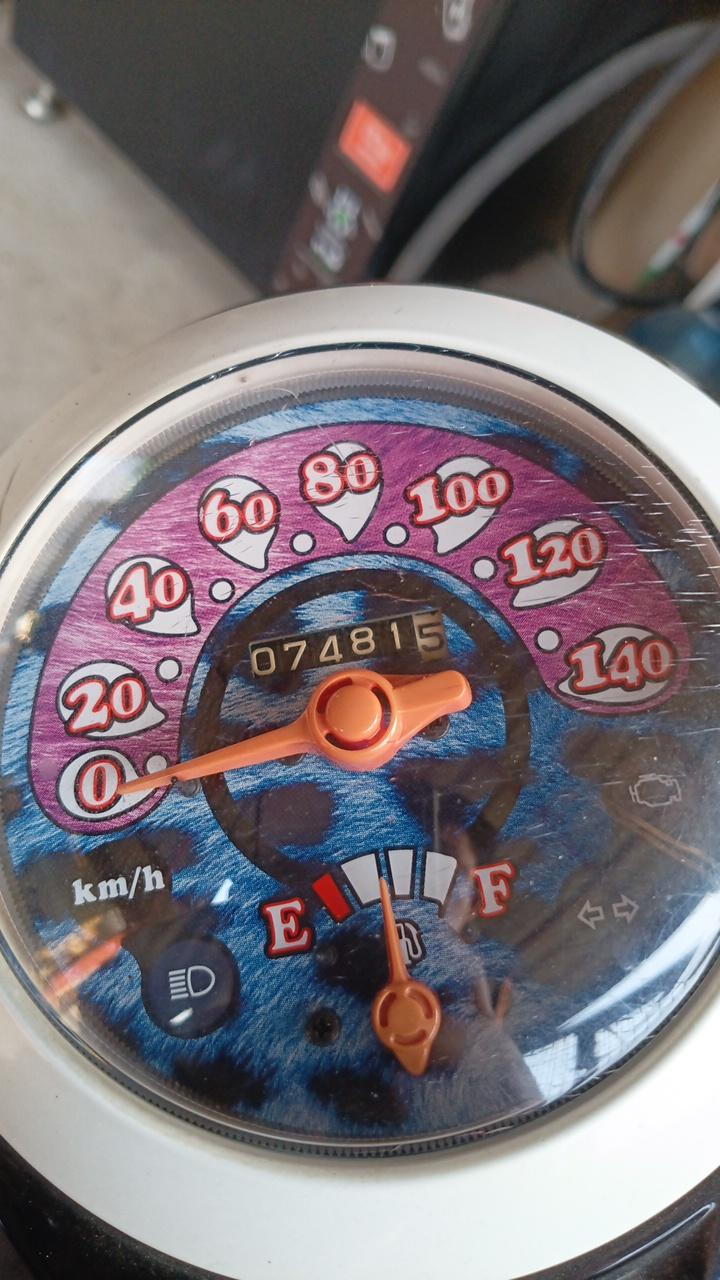0: (251, 646, 276, 677)
1: (389, 619, 402, 651)
4: (318, 632, 344, 665)
5: (416, 620, 447, 654)
7: (282, 637, 308, 673)
8: (349, 624, 377, 656)
odometer: (247, 604, 454, 685)
